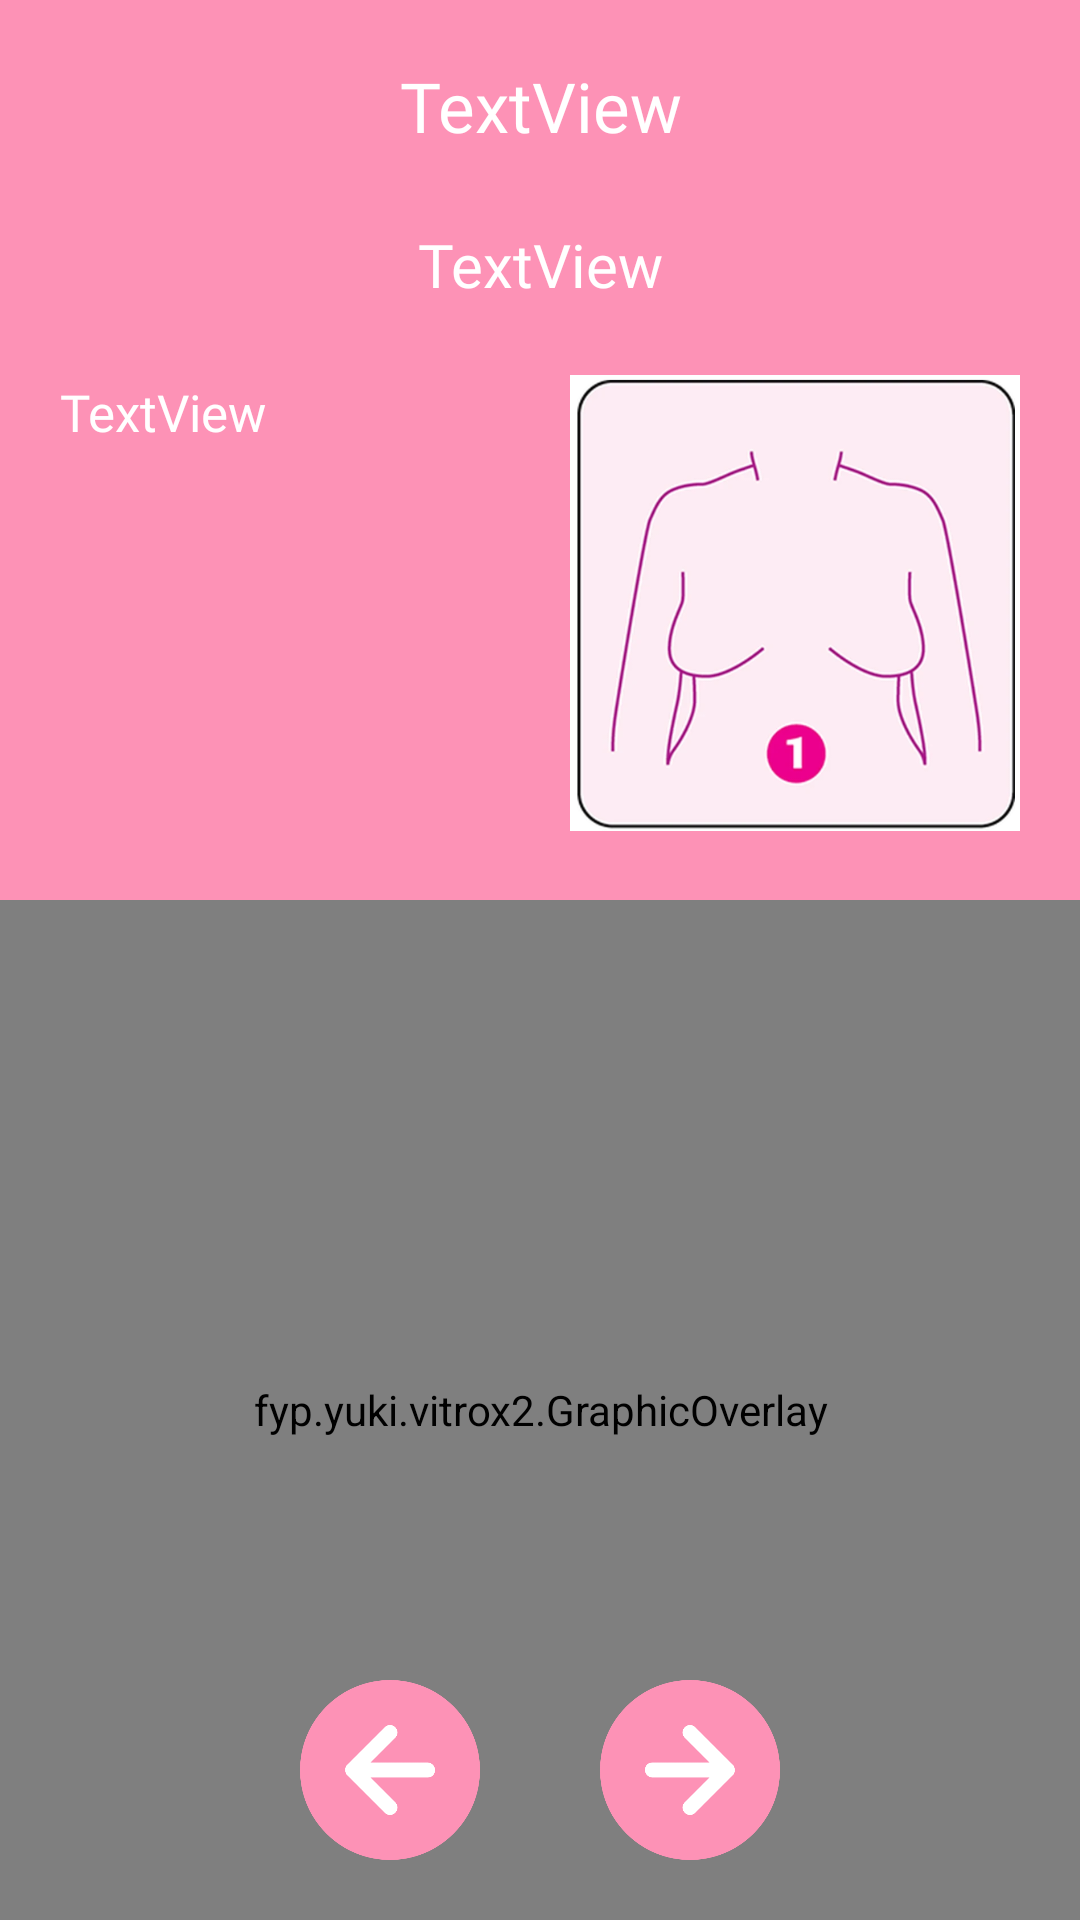

Point at icon controls on the screen. Image size 1080 x 1920, points as point (x, y).
left: point (390, 1770)
right: point (690, 1770)
